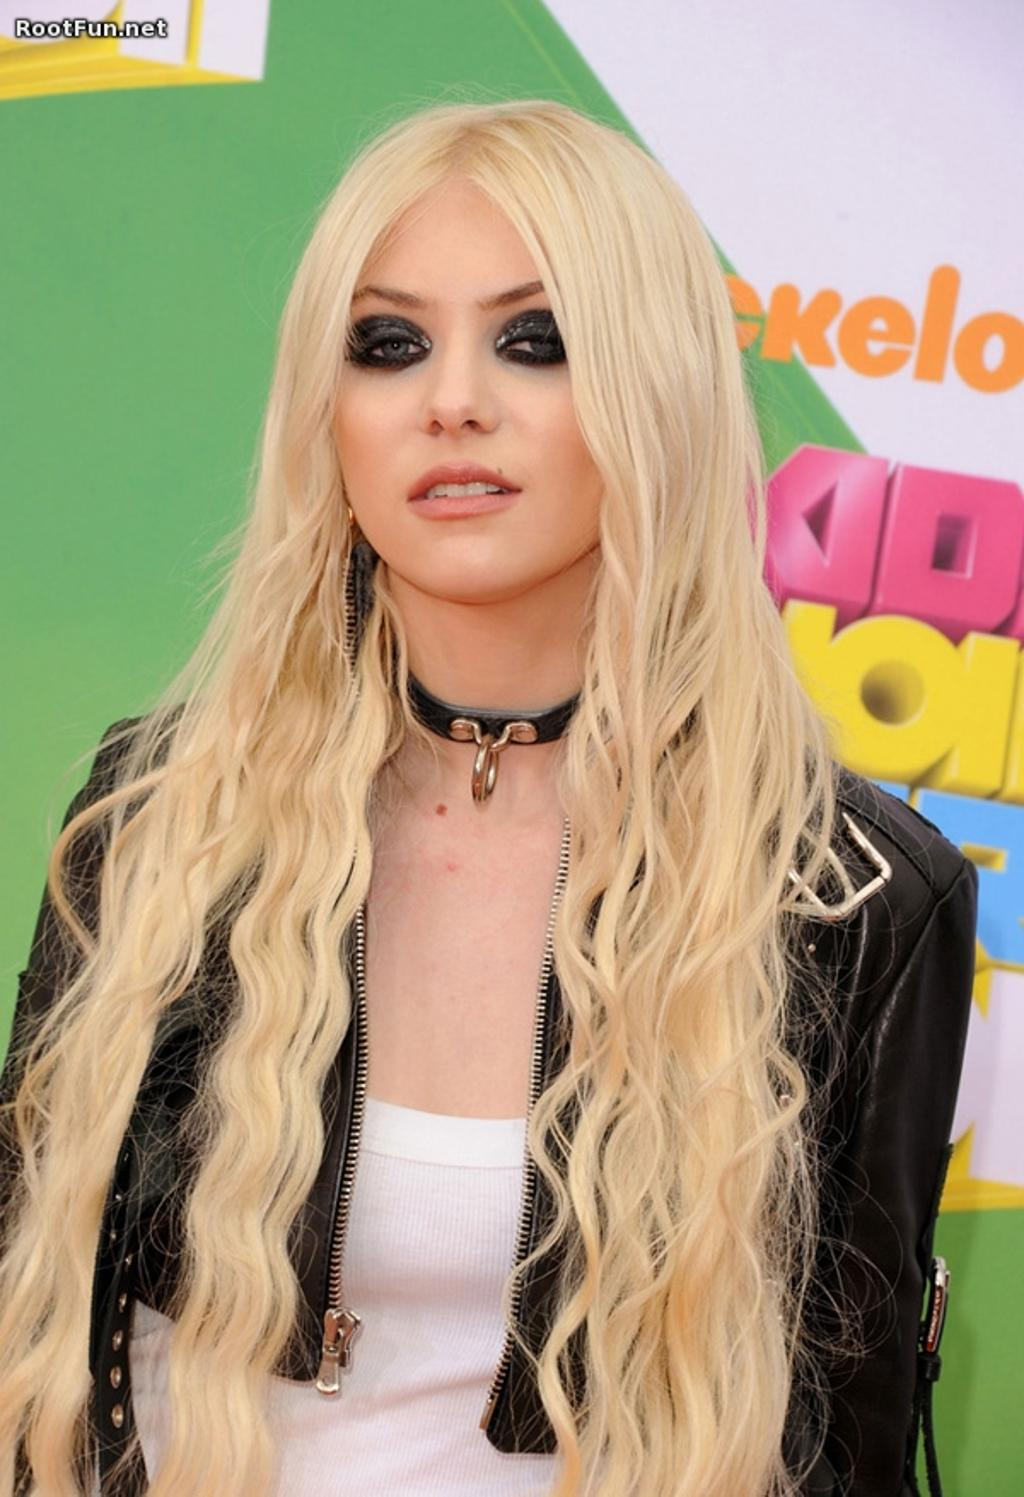face: (332, 188, 633, 592)
